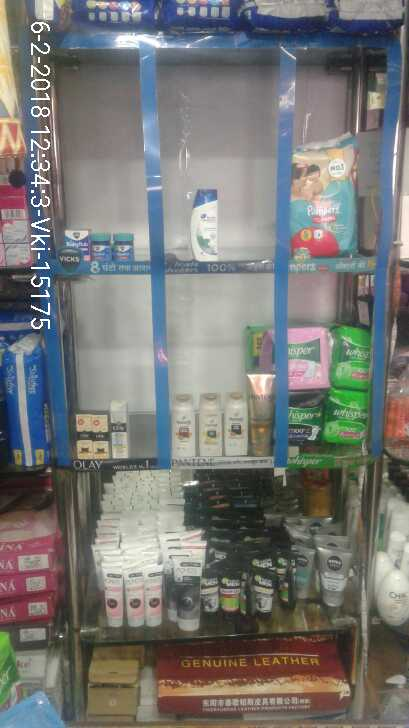vicks: (64, 224, 146, 264)
